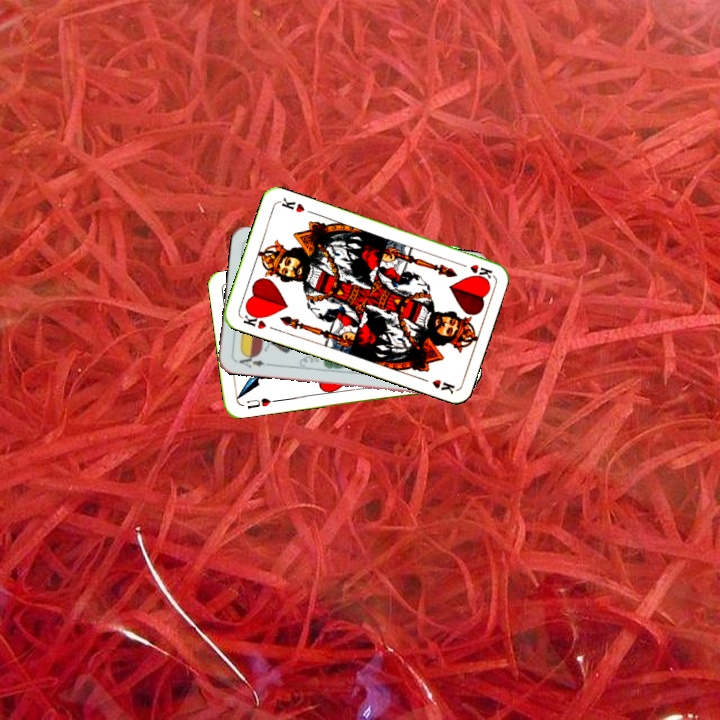EA: (235, 350, 273, 370)
HK: (455, 259, 495, 282), (237, 307, 269, 332)
HU: (243, 394, 279, 411)
